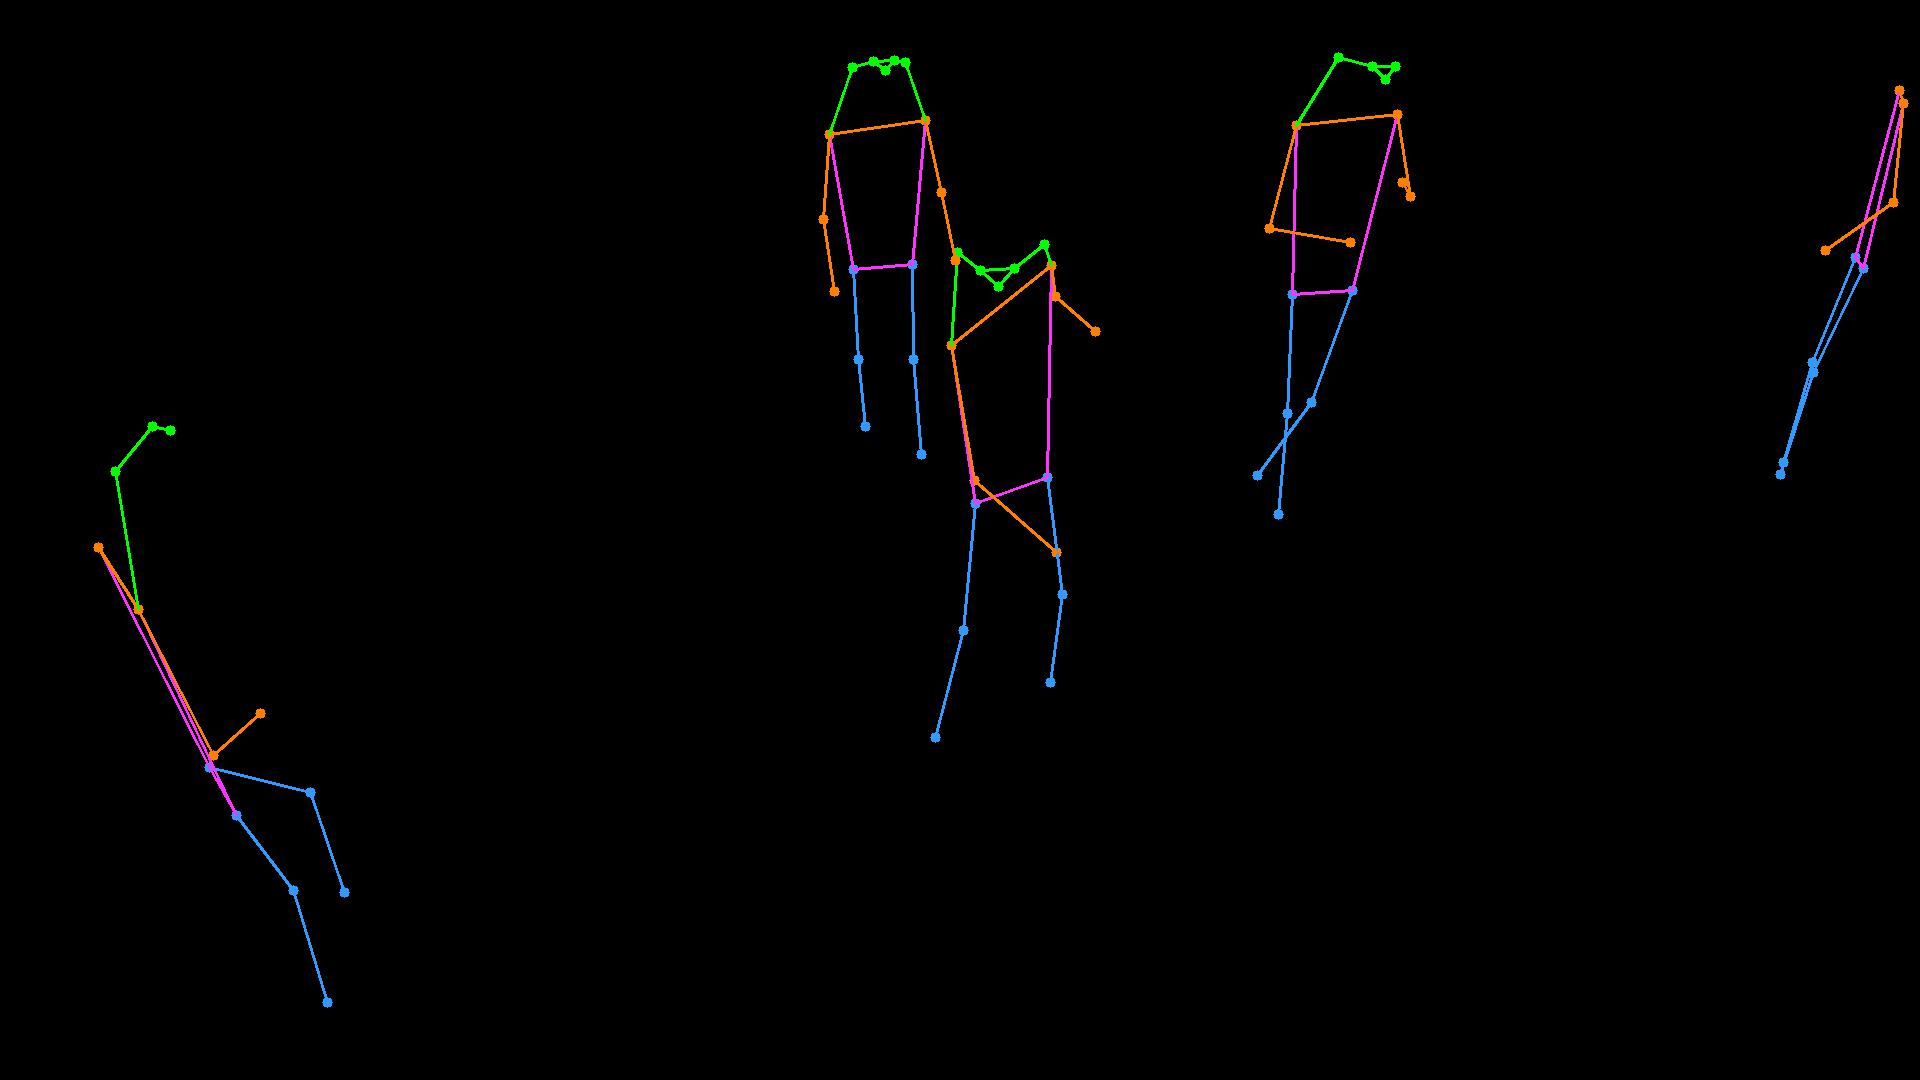normal: (53, 367, 410, 1065), (897, 175, 1156, 808), (1183, 4, 1445, 592), (791, 11, 985, 510)
